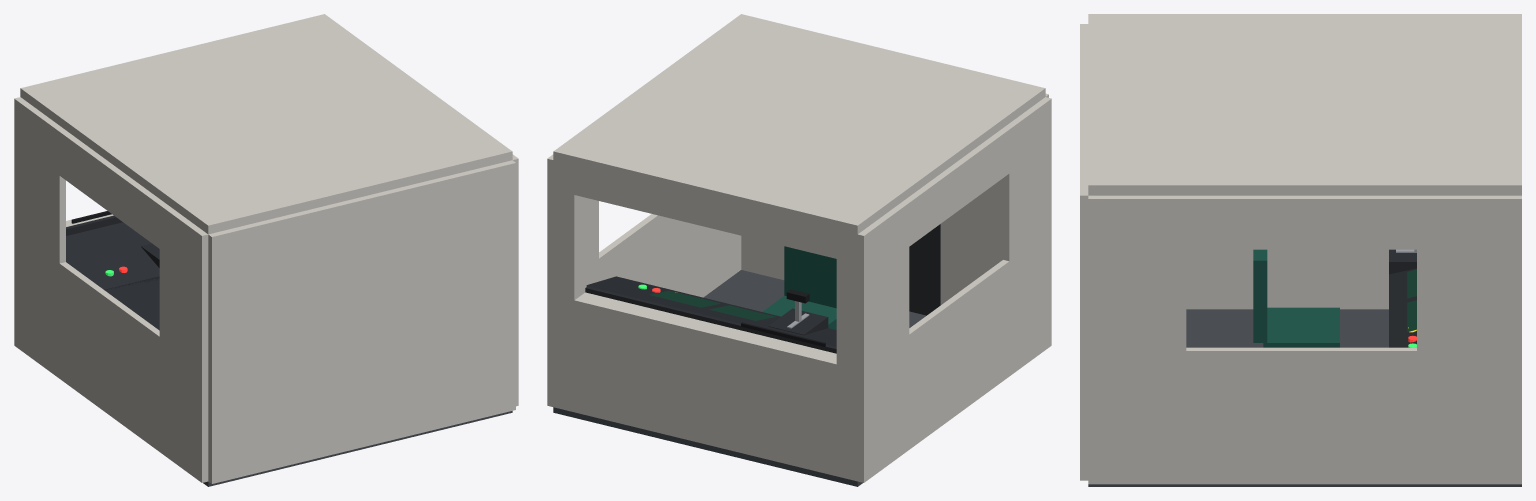
The model's file is cab.glb.
The picture shows the model from 3 angles, left to right: view 1: azimuth 30°, elevation 25°; view 2: azimuth 150°, elevation 25°; view 3: azimuth 270°, elevation 25°; orthographic projection. The views are drawn at different scales.
Parts seen in each view (by area): view 1: CabBody; view 2: CabBody; view 3: CabBody.
Boxes of the visible parts, box(x1,y1,x2,y2) form: CabBody: box(14, 14, 518, 486); CabBody: box(547, 14, 1051, 486); CabBody: box(1080, 14, 1521, 486).
Size of the model in its own units: 3.02 by 2.38 by 3.16.
